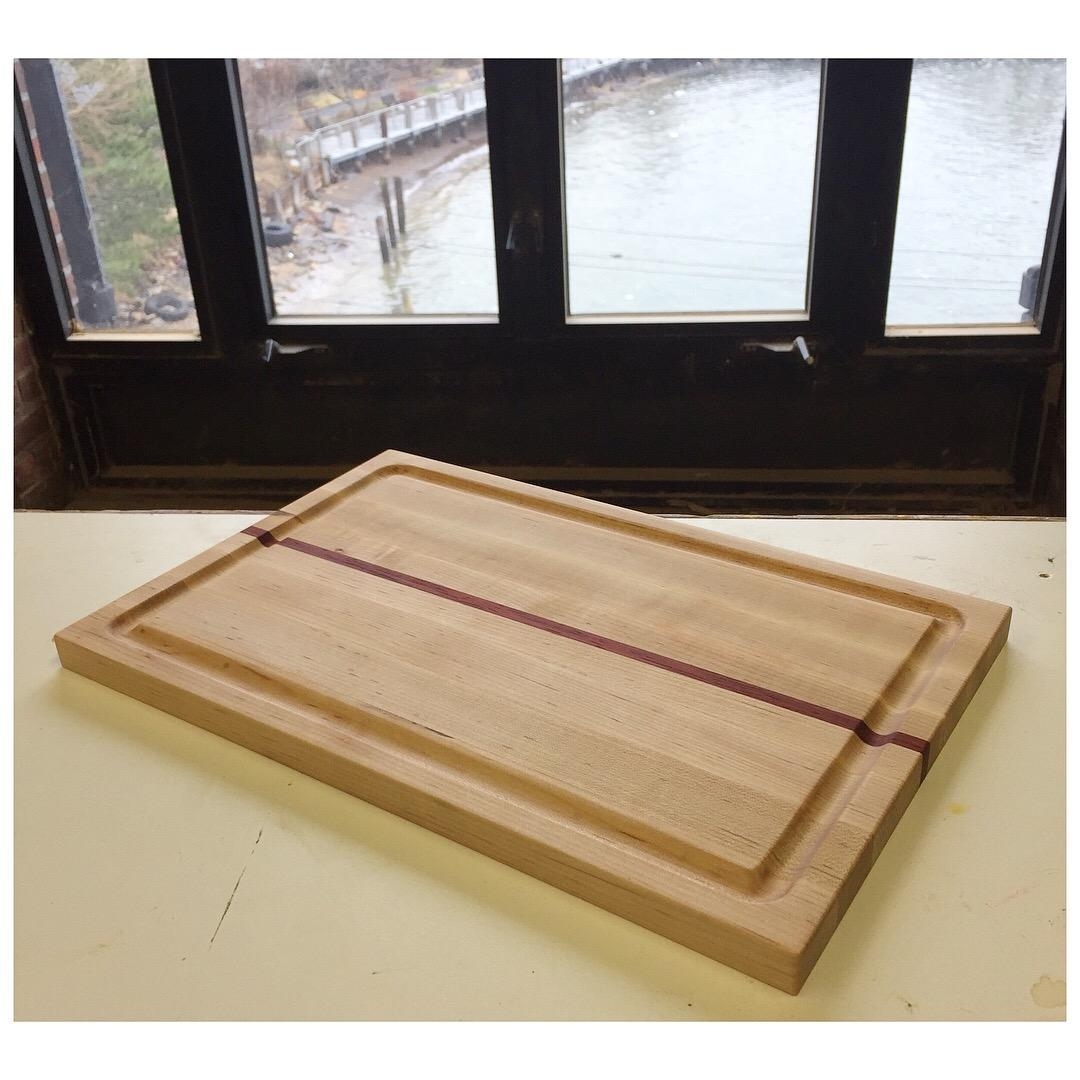gloved_hand: (45, 438, 1017, 1003)
